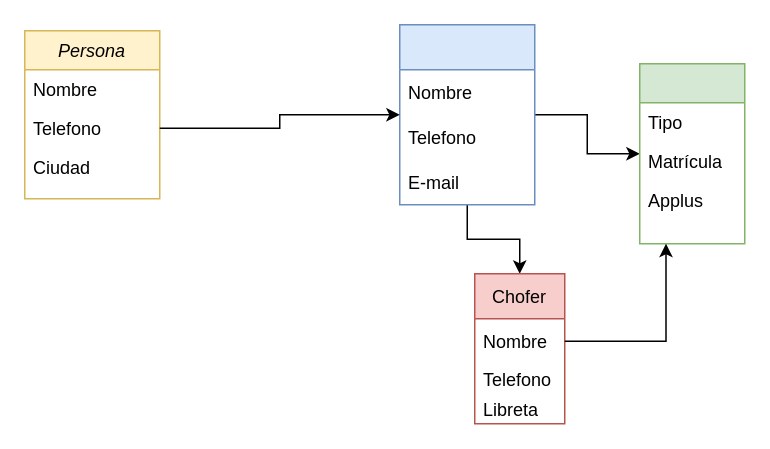
Image size: 770x449. Some labels were removed from this diagram. Here are the shapes that lost their labels. From the top down, the box of each, then its label:
(398, 23, 535, 205): Empresa
(638, 62, 745, 244): Vehículo
